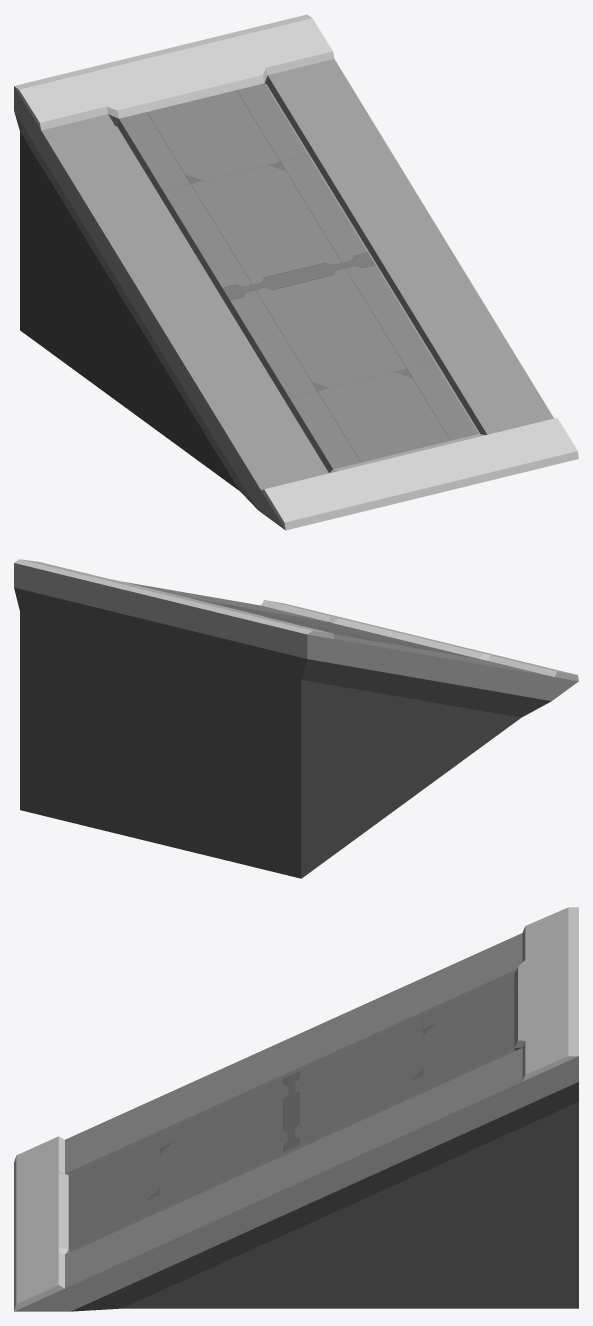
File: SM_Ramp_3x2_1.fbx
The picture shows the model from 3 angles, top to bottom: view 1: azimuth 30°, elevation 25°; view 2: azimuth 150°, elevation 25°; view 3: azimuth 270°, elevation 25°; orthographic projection. The views are drawn at different scales.
Visible parts, largest first — view 1: SM_Ramp_3x2; view 2: SM_Ramp_3x2; view 3: SM_Ramp_3x2.
Part boxes in pixels (box(x1,y1,x2,y2)): SM_Ramp_3x2: box(14, 14, 578, 530); SM_Ramp_3x2: box(14, 559, 578, 878); SM_Ramp_3x2: box(14, 907, 578, 1311).
Bounding box in the file's own units: 187 × 149 × 299.
